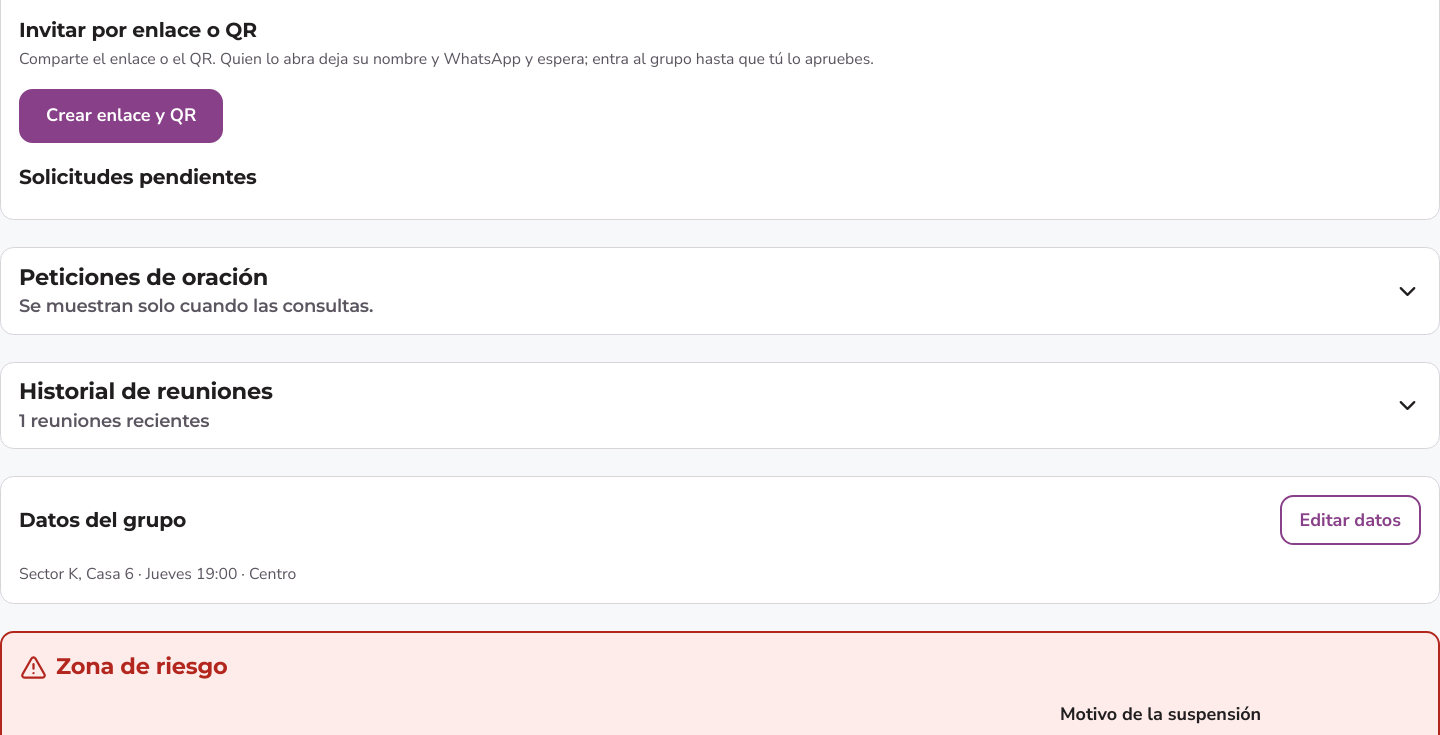
Test: GrupoPage › muestra sector y casa y, al abrir el historial, lo que ocurrió en cada reunión
(page scrolled)
Expected: the text "5 de 8 presentes" is not shown
Click the button "Historial de reuniones 1 reuniones recientes".
click(146, 391)  # box [1,363,1439,448]
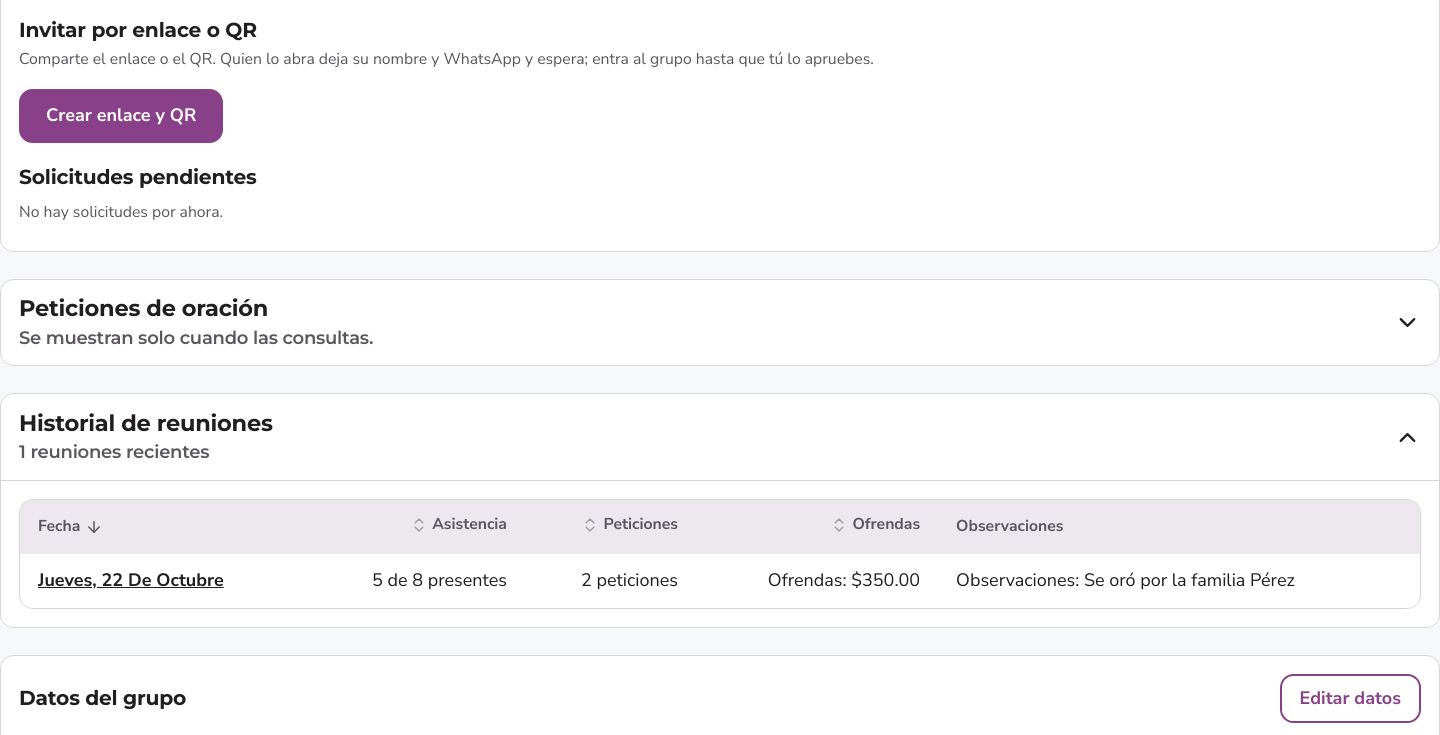
Result: the text "Observaciones: Se oró por la familia Pérez" is shown at [938,554,1420,608]
Result: the text "2 peticiones" is shown at [525,554,696,608]
Result: the text "Ofrendas: $350.00" is shown at [696,554,938,608]
